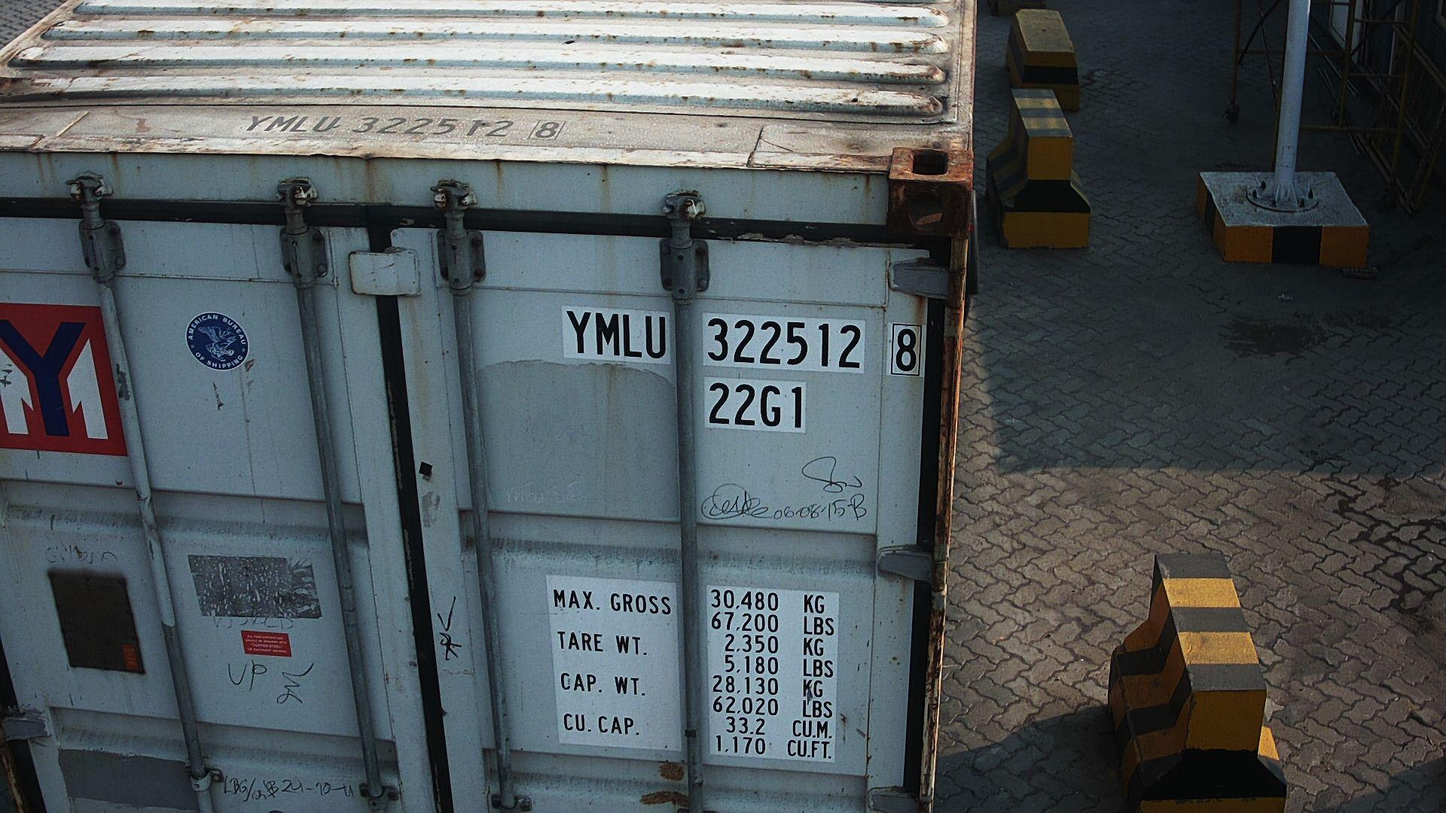container-numbers: (561, 307, 929, 378), (237, 109, 567, 144), (702, 379, 813, 433)
